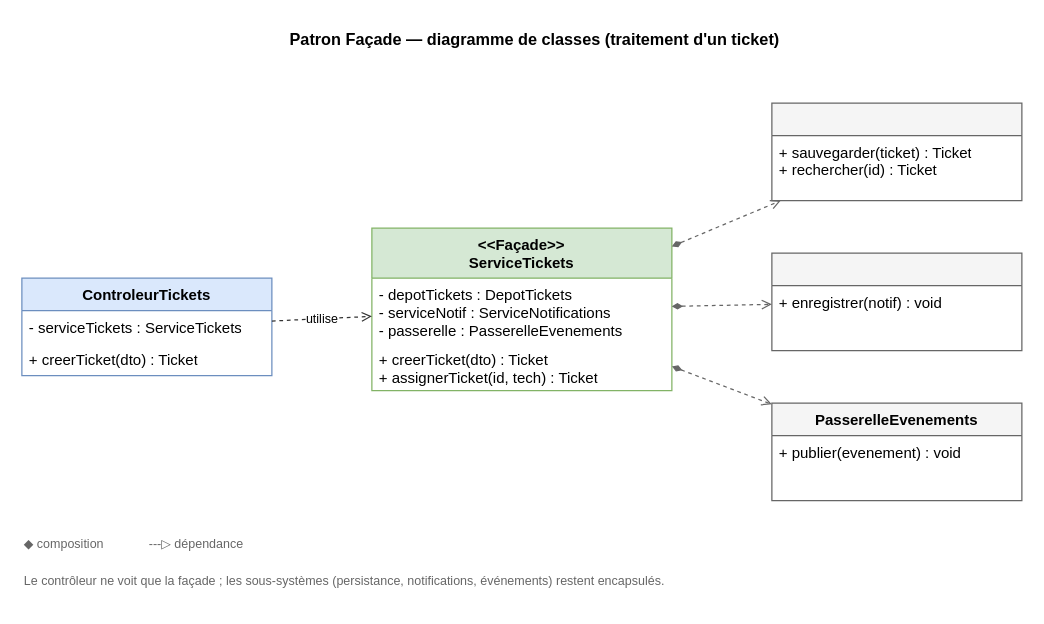
Some shapes in this 1044 by 624 pixel diagram are drawn without their labels. Each missing label, with the box of its shape:
DepotTickets: (771, 102, 1022, 201)
ServiceNotifications: (771, 252, 1022, 351)
